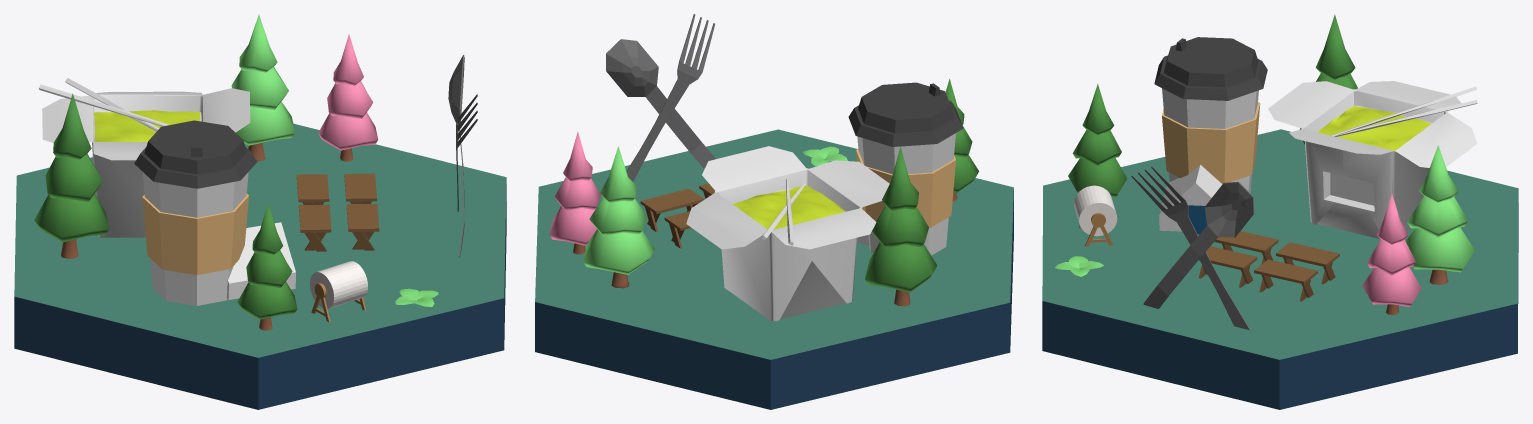
The model's file is Macro - Restaurant lvl 2 WM2.fbx.
3 renders of one model, left to right at view 1: azimuth 30°, elevation 25°; view 2: azimuth 150°, elevation 25°; view 3: azimuth 270°, elevation 25°, orthographic. The views are drawn at different scales.
Visible parts, largest first — view 1: Cylinder.176, coffee_001.002, Cube.108, Tree_Spruce_tiny_01.001, Tree_Spruce_tiny_01.004, Tree_Spruce_tiny_01.003, Tree_Spruce_tiny_01.002, Cylinder.011, Cube.003, table.003, table.002, Plane.116 (+4 smaller); view 2: Cylinder.176, Cube.108, coffee_001.002, Tree_Spruce_tiny_01.001, Tree_Spruce_tiny_01.004, Plane.116, Tree_Spruce_tiny_01.003, Plane.117, Tree_Spruce_tiny_01.002, table.001, Plane.011, table; view 3: Cylinder.176, Cube.108, coffee_001.002, Tree_Spruce_tiny_01.004, Tree_Spruce_tiny_01.003, Plane.116, Tree_Spruce_tiny_01.002, Plane.117, Cube.003, Tree_Spruce_tiny_01.001, Cylinder.011, table.001 (+4 smaller).
Part boxes in pixels (<box>): Cylinder.176: <box>14,123,506,409</box>; coffee_001.002: <box>134,120,256,305</box>; Cube.108: <box>39,78,250,237</box>; Tree_Spruce_tiny_01.001: <box>34,93,108,258</box>; Tree_Spruce_tiny_01.004: <box>231,14,295,161</box>; Tree_Spruce_tiny_01.003: <box>318,34,378,161</box>; Tree_Spruce_tiny_01.002: <box>237,203,297,330</box>; Cylinder.011: <box>310,261,367,308</box>; Cube.003: <box>227,222,295,299</box>; table.003: <box>298,204,331,251</box>; table.002: <box>346,204,379,250</box>; Plane.116: <box>448,55,464,257</box>; Cylinder.176: <box>535,129,1013,409</box>; Cube.108: <box>686,146,889,321</box>; coffee_001.002: <box>848,82,963,255</box>; Tree_Spruce_tiny_01.001: <box>865,146,937,306</box>; Tree_Spruce_tiny_01.004: <box>583,146,654,288</box>; Plane.116: <box>606,39,715,167</box>; Tree_Spruce_tiny_01.003: <box>549,131,600,254</box>; Plane.117: <box>626,14,715,181</box>; Tree_Spruce_tiny_01.002: <box>945,79,978,201</box>; table.001: <box>640,188,704,231</box>; Plane.011: <box>803,146,847,166</box>; table: <box>664,211,691,248</box>; Cylinder.176: <box>1042,129,1518,409</box>; Cube.108: <box>1268,81,1477,238</box>; coffee_001.002: <box>1154,37,1267,192</box>; Tree_Spruce_tiny_01.004: <box>1405,145,1474,284</box>; Tree_Spruce_tiny_01.003: <box>1362,194,1421,315</box>; Plane.116: <box>1143,181,1254,308</box>; Tree_Spruce_tiny_01.002: <box>1068,83,1127,197</box>; Plane.117: <box>1131,166,1249,330</box>; Cube.003: <box>1159,164,1222,231</box>; Tree_Spruce_tiny_01.001: <box>1299,14,1357,144</box>; Cylinder.011: <box>1074,185,1117,236</box>; table.001: <box>1254,259,1317,301</box>.
Bounding box in the file's own units: 197 × 82.22 × 172.
